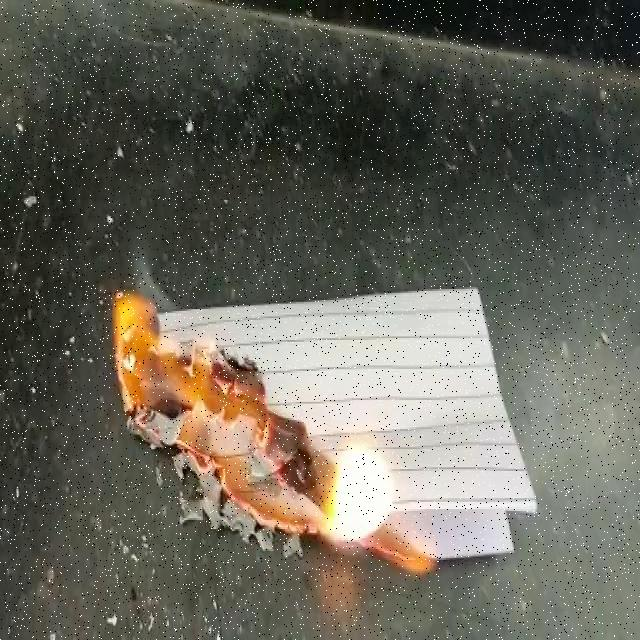fire: (94, 282, 441, 592)
